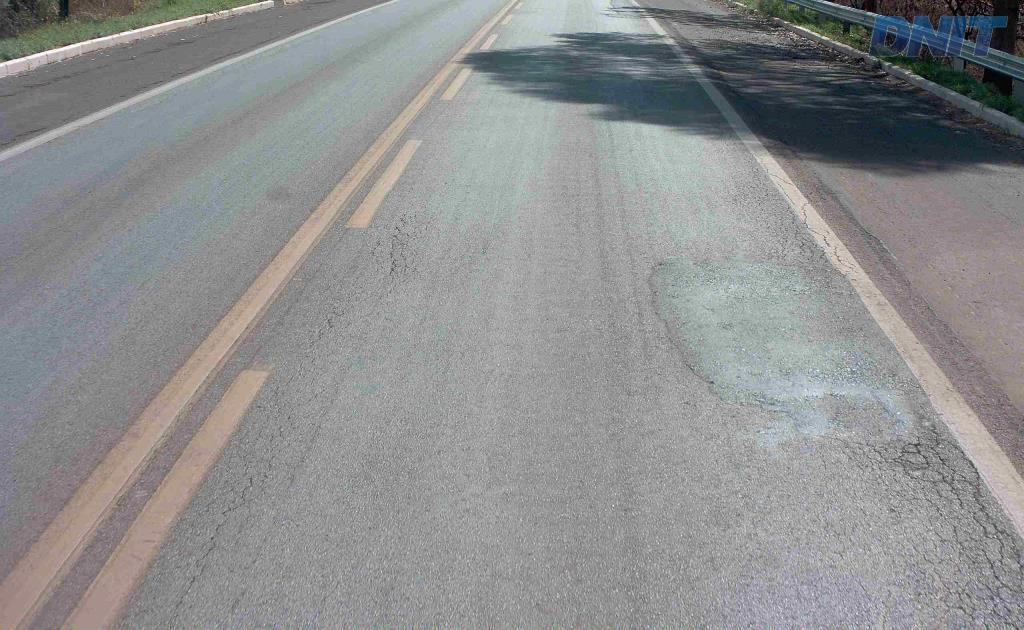crack: (883, 425, 993, 522), (967, 508, 1023, 578)
